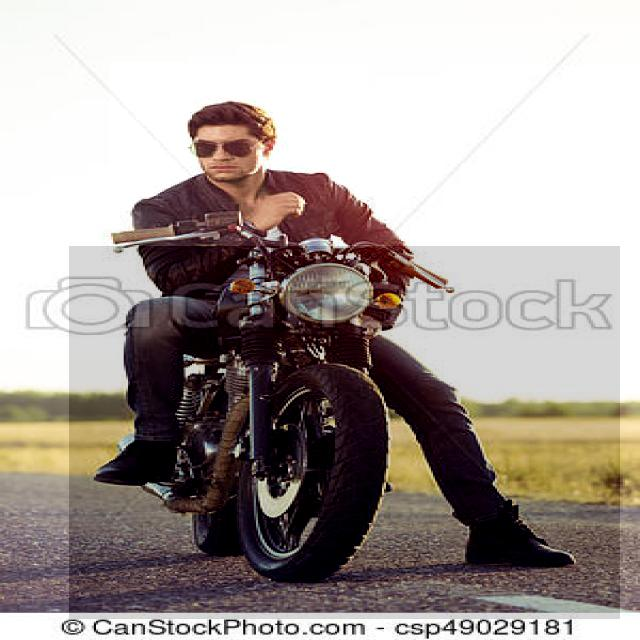Bike: (69, 246, 620, 619)
No_Helmet: (109, 62, 367, 210)
